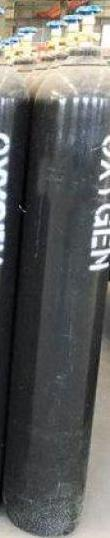cylinder: (0, 1, 110, 538)
